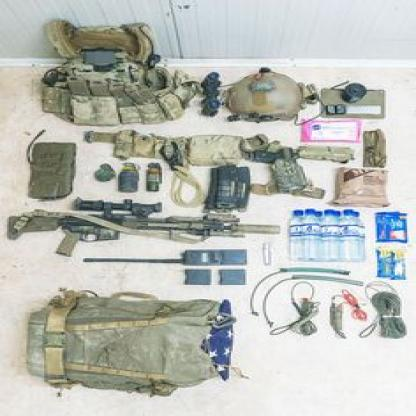Grenade: (118, 162, 139, 194), (146, 160, 164, 193), (94, 162, 116, 183)
Gun: (5, 197, 283, 258)
Pistol: (252, 147, 308, 193)
